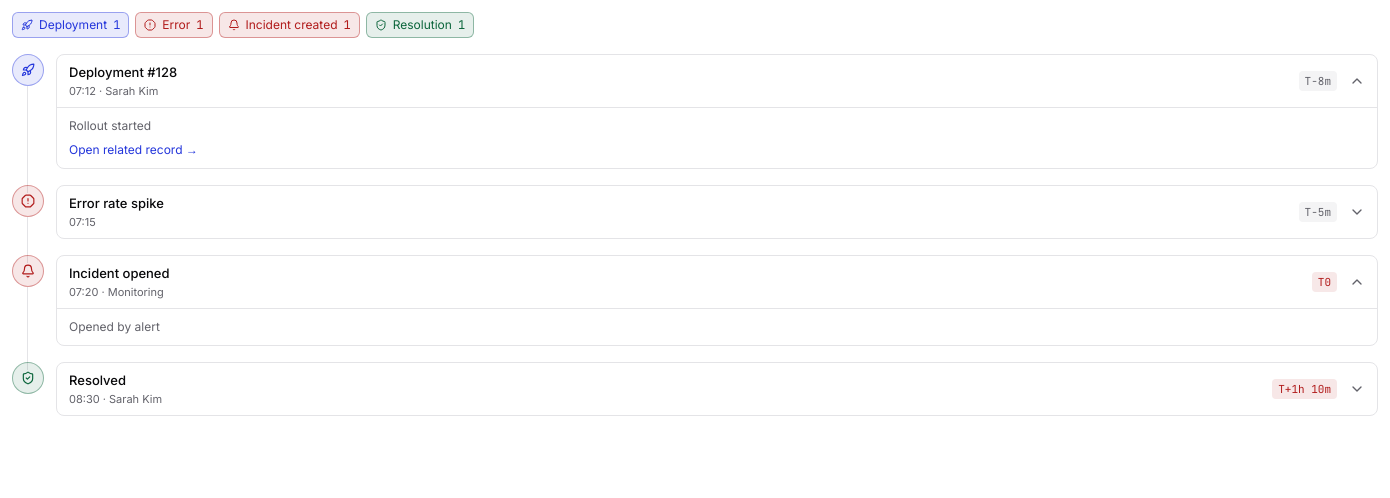
IncidentTimeline › expands events to reveal details and deep links
The width and height of the screenshot is (1390, 498).
Click the button "Error rate spike 07:15 T−5m" at (116,203), box [57,186,1377,238]
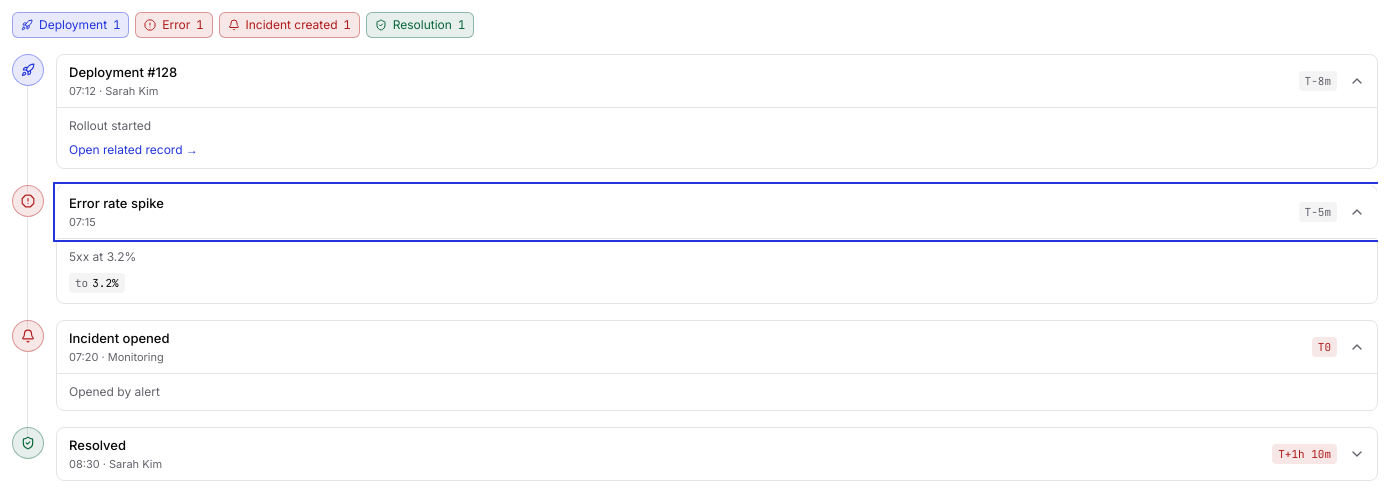
Expected: the button "Error rate spike 07:15 T−5m" is expanded, [57,186,1377,238]
Expected: the text "5xx at 3.2%" is shown, [69,249,136,264]
